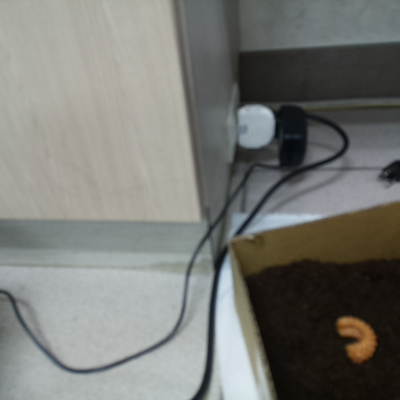eggs: (330, 308, 382, 370)
